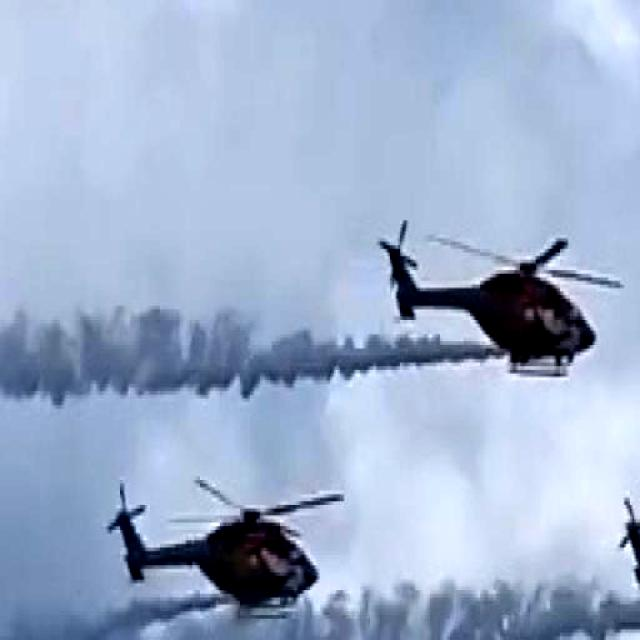drone: (385, 214, 622, 386), (99, 471, 348, 604)
